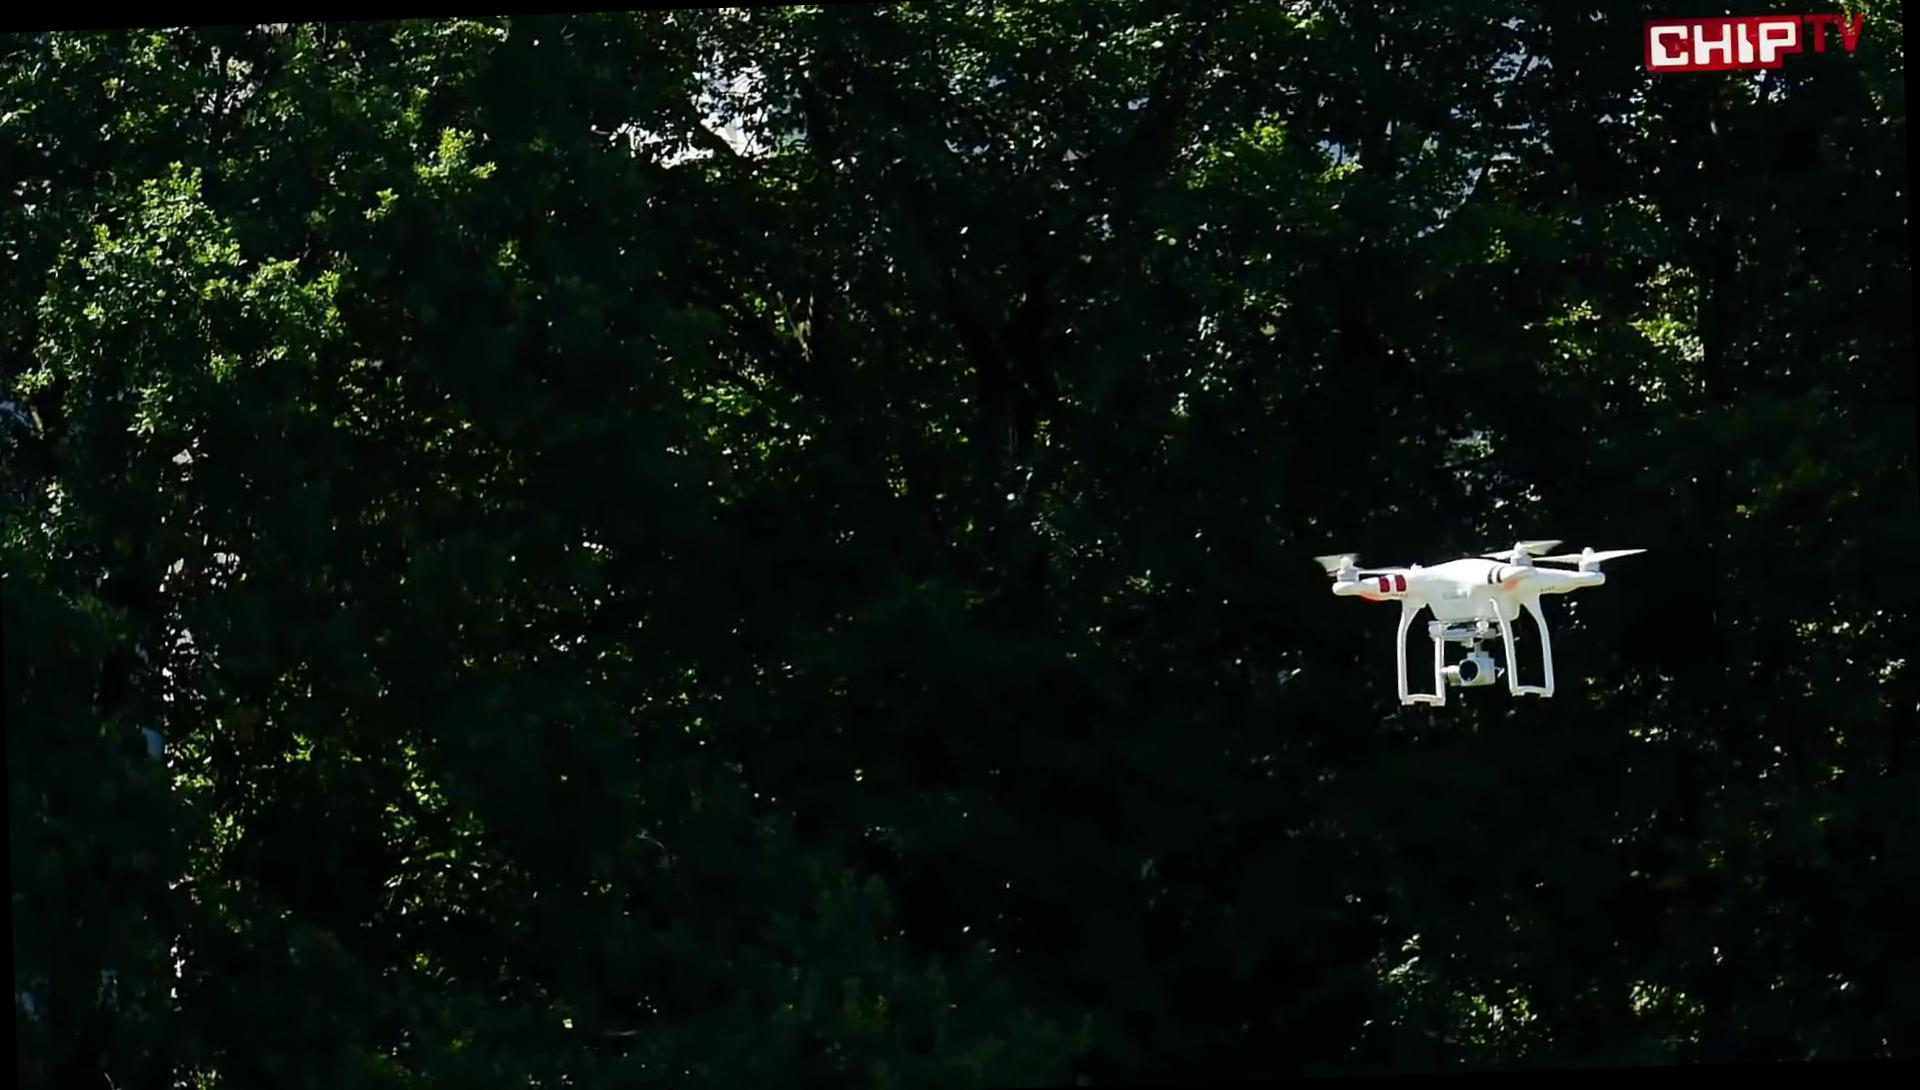drone: (1309, 527, 1651, 713)
